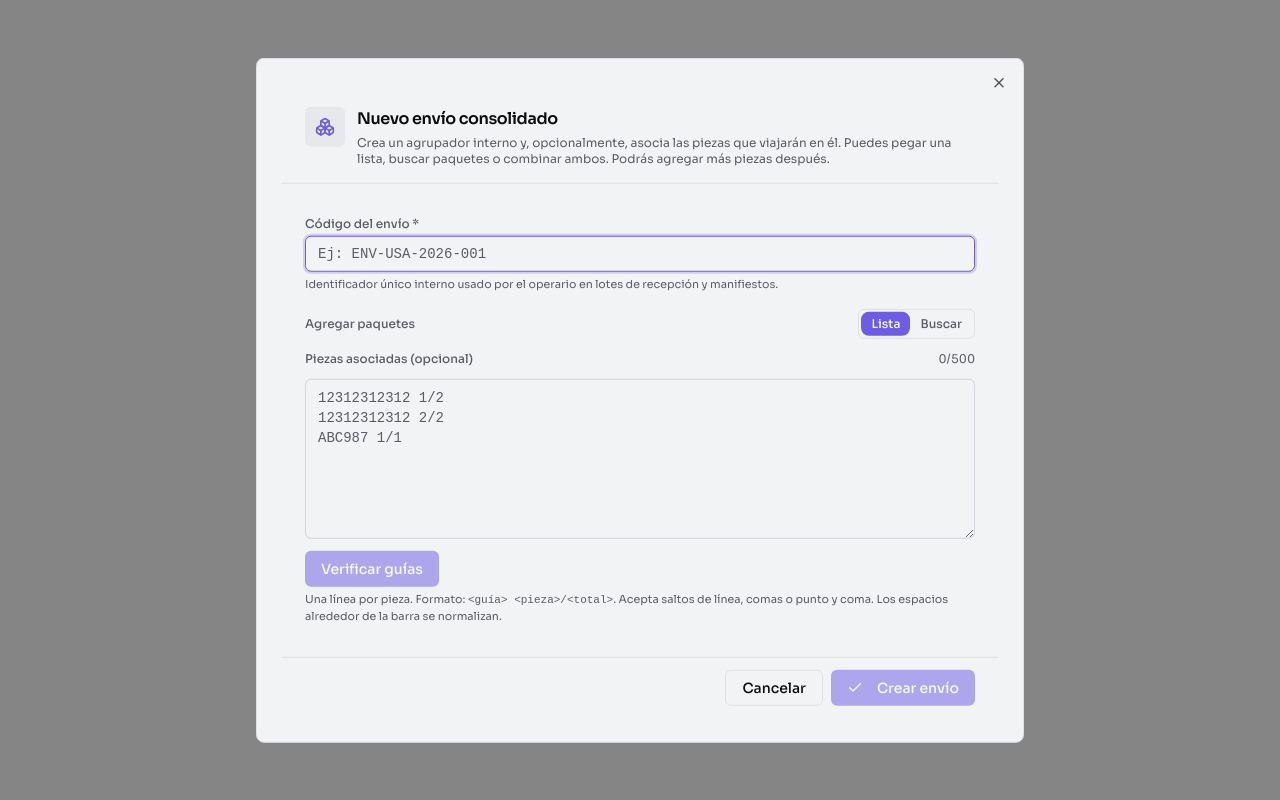
Test: CrearEnvioConGuiasDialog › no deja seleccionar un paquete no elegible y muestra el motivo
The width and height of the screenshot is (1280, 800).
Click the button "Buscar" at (941, 323), box [910, 311, 972, 335]
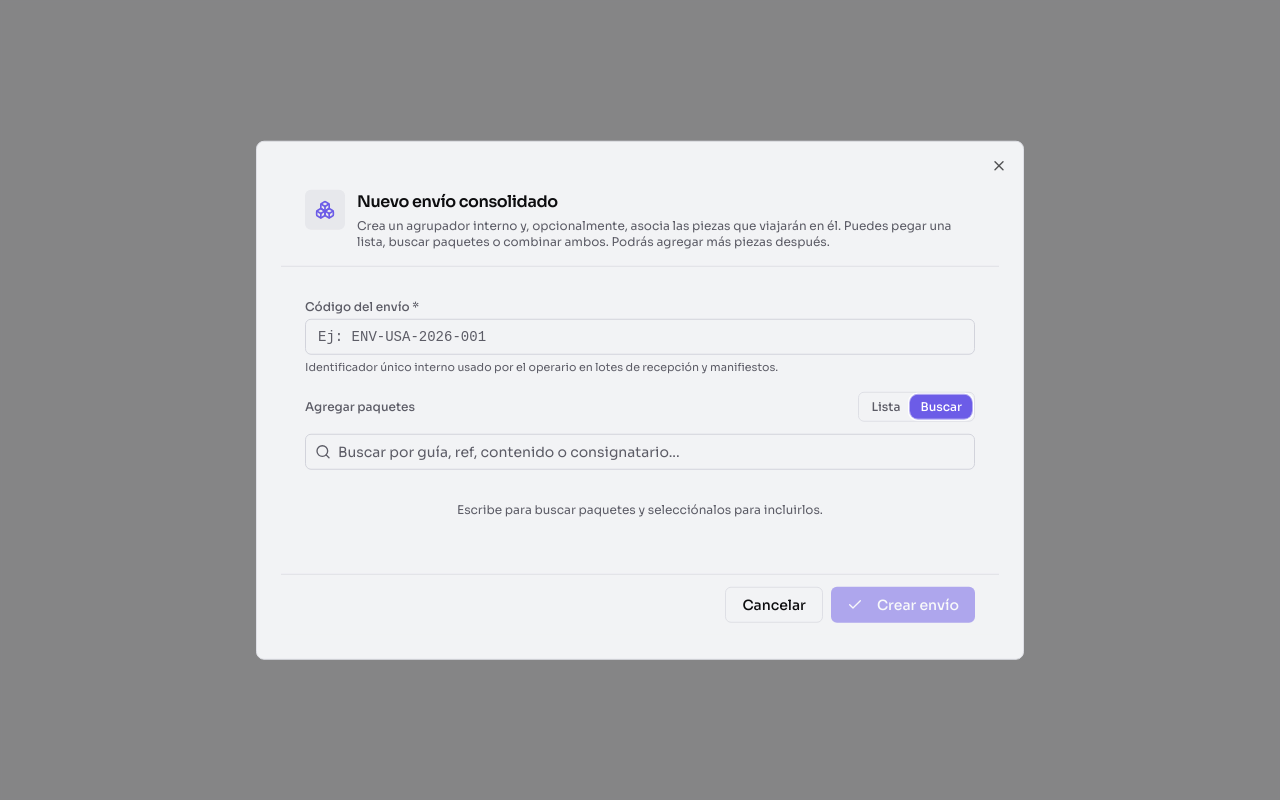
Type "BAD" into the field with placeholder "Buscar por guía, ref, contenido o consignatario..." at (640, 451), box [305, 433, 975, 469]
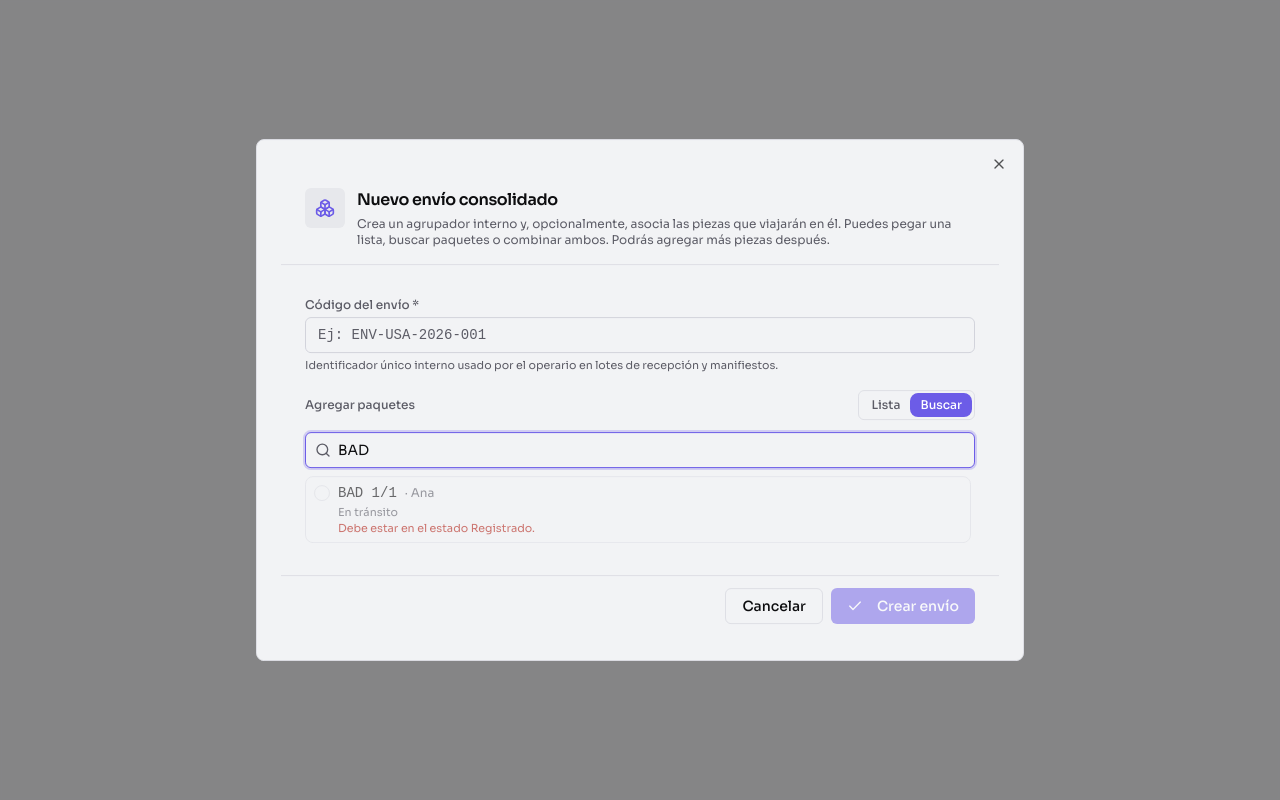
Now the button "BAD 1/1" is disabled, box [305, 476, 971, 543]
Now the text "Debe estar en el estado Registrado." is shown, box [338, 521, 535, 535]
